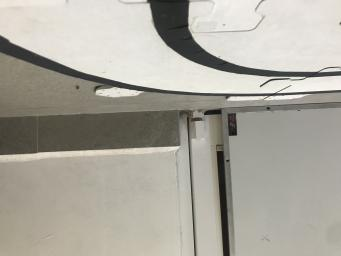street: (0, 0, 341, 96), (0, 0, 341, 96), (0, 0, 341, 96), (0, 0, 341, 96), (0, 0, 341, 96), (0, 0, 341, 96)
